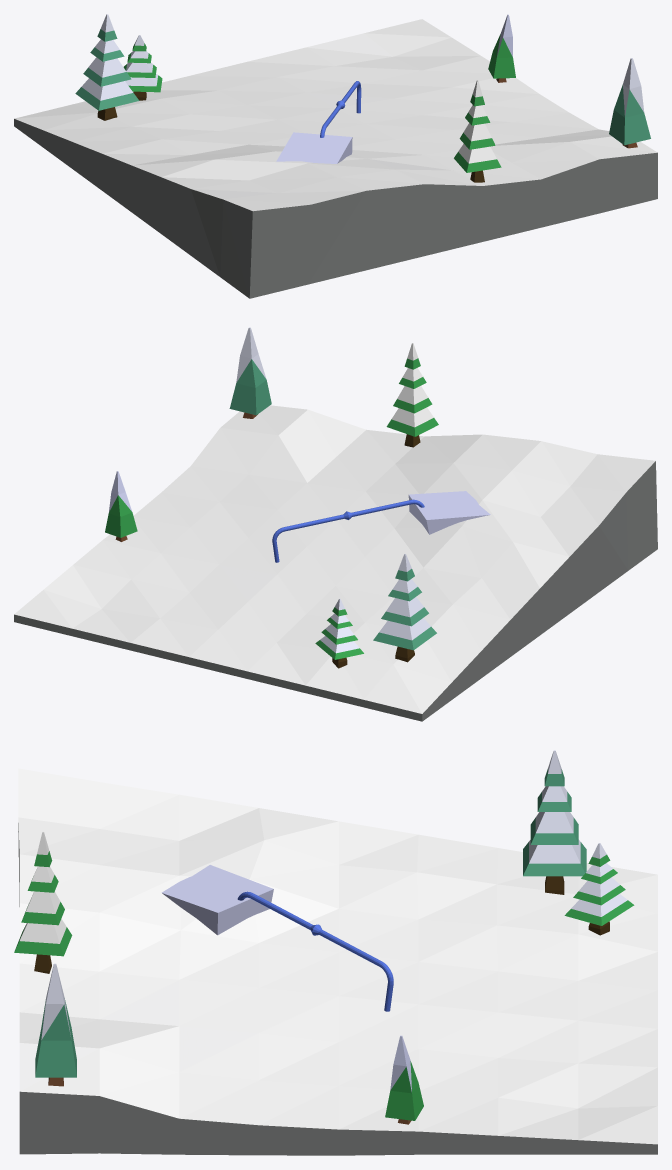
The model's file is obstacleRail.glb.
3 views of the same model, one above another, from view 1: azimuth 30°, elevation 25°; view 2: azimuth 150°, elevation 25°; view 3: azimuth 270°, elevation 25° (orthographic). The views are drawn at different scales.
Visible parts, largest first — view 1: snow, Cube.001, Cube.003, Cube, first, Cube.002, Cube.004, rail; view 2: snow, Cube.001, Cube.003, first, Cube, Cube.002, Cube.004, rail; view 3: snow, Cube.001, first, Cube.003, Cube, Cube.002, Cube.004, rail.
Part boxes in pixels (x1,y1,x2,y2): snow: (14,19,657,298); Cube.001: (75,14,139,120); Cube.003: (454,80,501,182); Cube: (609,58,650,148); first: (276,132,352,163); Cube.002: (123,35,162,100); Cube.004: (488,14,515,82); rail: (320,81,361,137); snow: (14,405,657,721); Cube.001: (373,554,436,662); Cube.003: (386,343,438,447); first: (408,491,490,534); Cube: (229,327,271,418); Cube.002: (315,598,363,668); Cube.004: (105,471,137,541); rail: (272,499,424,562); snow: (18,768,657,1155); Cube.001: (523,750,586,894); first: (161,865,273,935); Cube.003: (14,831,72,973); Cube: (35,963,76,1086); Cube.002: (564,843,634,935); Cube.004: (385,1035,423,1124); rail: (237,891,393,1011).
Bounding box in the file's own units: 12.69 × 4.61 × 12.81.
